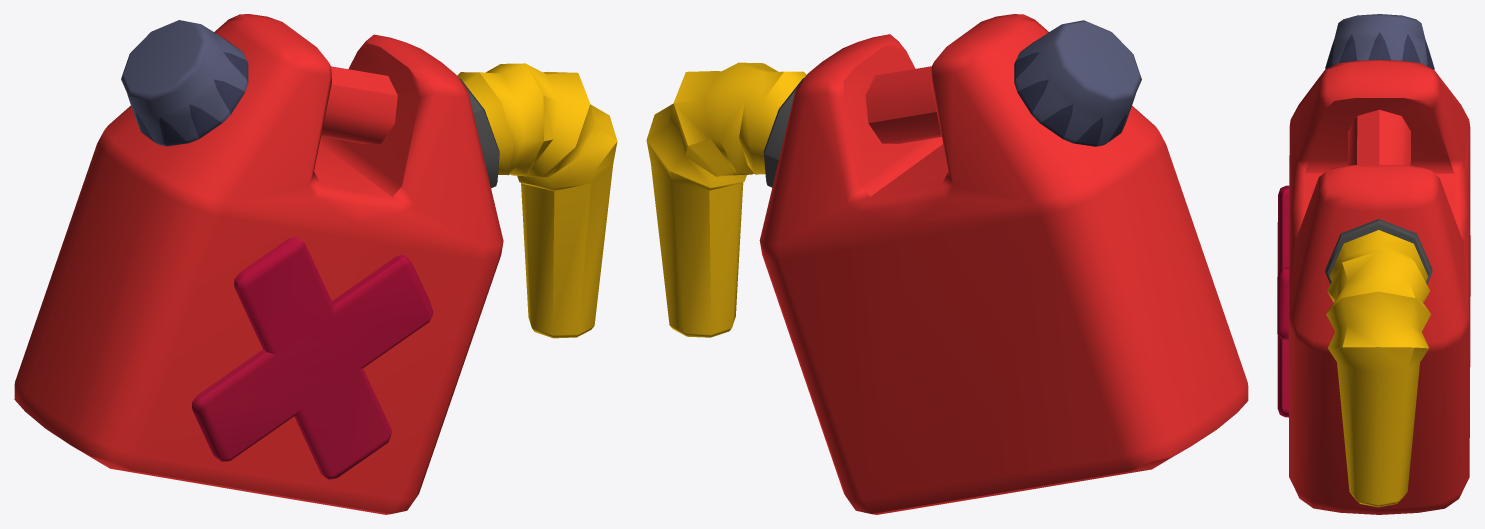
3 renders of one model, left to right at view 1: azimuth 30°, elevation 25°; view 2: azimuth 150°, elevation 25°; view 3: azimuth 270°, elevation 25°, orthographic. The views are drawn at different scales.
Visible parts, largest first — view 1: model_0.061; view 2: model_0.061; view 3: model_0.061.
Part boxes in pixels (x1=…): model_0.061: x1=14, y1=14, x2=617, y2=514; model_0.061: x1=646, y1=14, x2=1248, y2=514; model_0.061: x1=1277, y1=14, x2=1470, y2=514.
Bounding box in the file's own units: 4.82 × 4.1 × 1.69.
